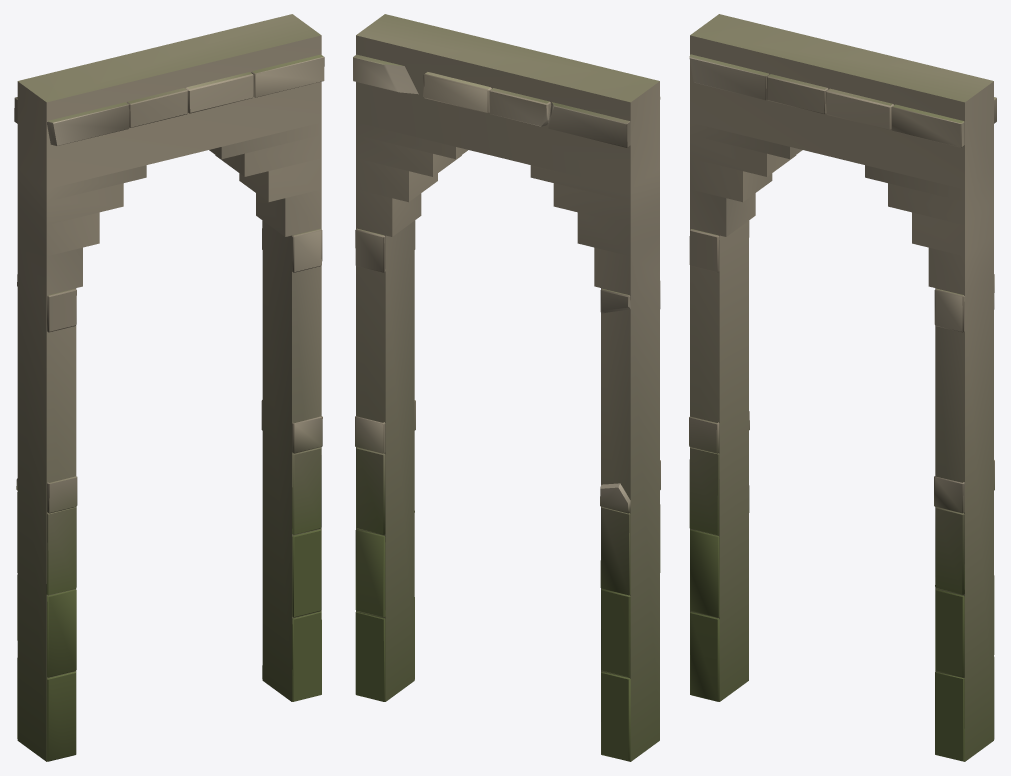
Rendered from sanctuary_arch.glb.
3 renders of one model, left to right at view 1: azimuth 30°, elevation 25°; view 2: azimuth 150°, elevation 25°; view 3: azimuth 330°, elevation 25°, orthographic.
Parts seen in each view (by area): view 1: sanctuary_arch_far, sanctuary_arch; view 2: sanctuary_arch_far, sanctuary_arch; view 3: sanctuary_arch_far, sanctuary_arch.
Part boxes in pixels (x1,y1,x2,y2): sanctuary_arch_far: (17, 14, 321, 761); sanctuary_arch: (14, 54, 324, 761); sanctuary_arch_far: (356, 14, 659, 761); sanctuary_arch: (353, 54, 660, 761); sanctuary_arch_far: (690, 14, 993, 761); sanctuary_arch: (689, 54, 996, 761).
Bounding box in the file's own units: 18.5 × 42.4 × 4.22.
